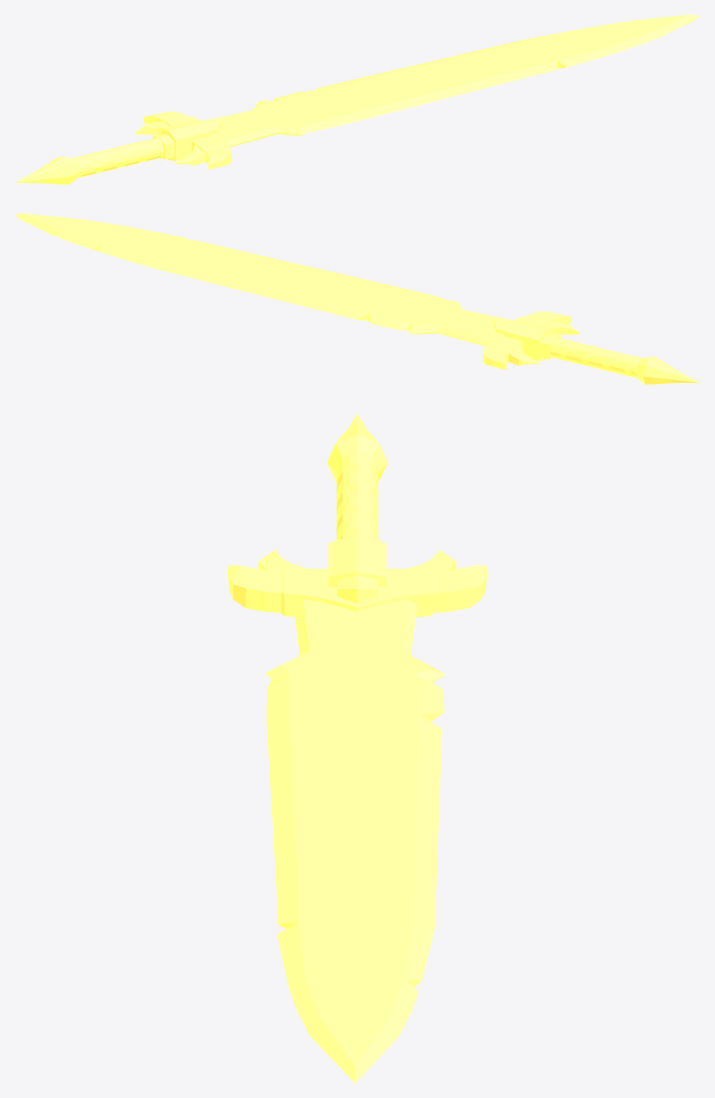
The model's file is orbit-blade.glb.
The picture shows the model from 3 angles, top to bottom: view 1: azimuth 30°, elevation 25°; view 2: azimuth 150°, elevation 25°; view 3: azimuth 270°, elevation 25°; orthographic projection. The views are drawn at different scales.
Parts seen in each view (by area): view 1: orbit-blade_Rogue_Dagger; view 2: orbit-blade_Rogue_Dagger; view 3: orbit-blade_Rogue_Dagger.
Part boxes in pixels (box(x1,y1,x2,y2)): orbit-blade_Rogue_Dagger: box(14, 14, 700, 184); orbit-blade_Rogue_Dagger: box(14, 213, 699, 384); orbit-blade_Rogue_Dagger: box(228, 413, 486, 1083).
Bounding box in the file's own units: 0.7 × 0.0288 × 0.1142.
